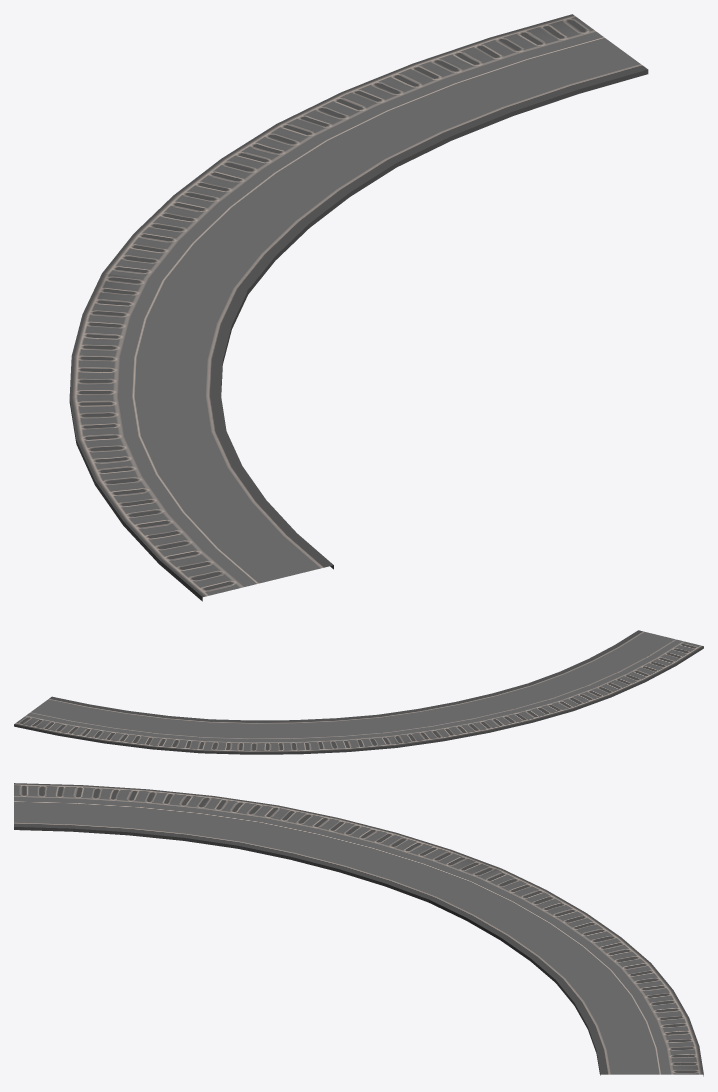
The model's file is BottomMetal_Corner_Round_Inner.gltf.
3 views of the same model, one above another, from view 1: azimuth 30°, elevation 25°; view 2: azimuth 150°, elevation 25°; view 3: azimuth 270°, elevation 25° (orthographic). The views are drawn at different scales.
Parts seen in each view (by area): view 1: BottomMetal_Corner_Round_Inner; view 2: BottomMetal_Corner_Round_Inner; view 3: BottomMetal_Corner_Round_Inner.
Boxes of the visible parts, left/top/right/bottom form: BottomMetal_Corner_Round_Inner: left=69, top=14, right=648, bottom=601; BottomMetal_Corner_Round_Inner: left=14, top=630, right=703, bottom=754; BottomMetal_Corner_Round_Inner: left=14, top=783, right=703, bottom=1076.
Bounding box in the file's own units: 4 × 0.02 × 4.
2 materials, 2 textured.
